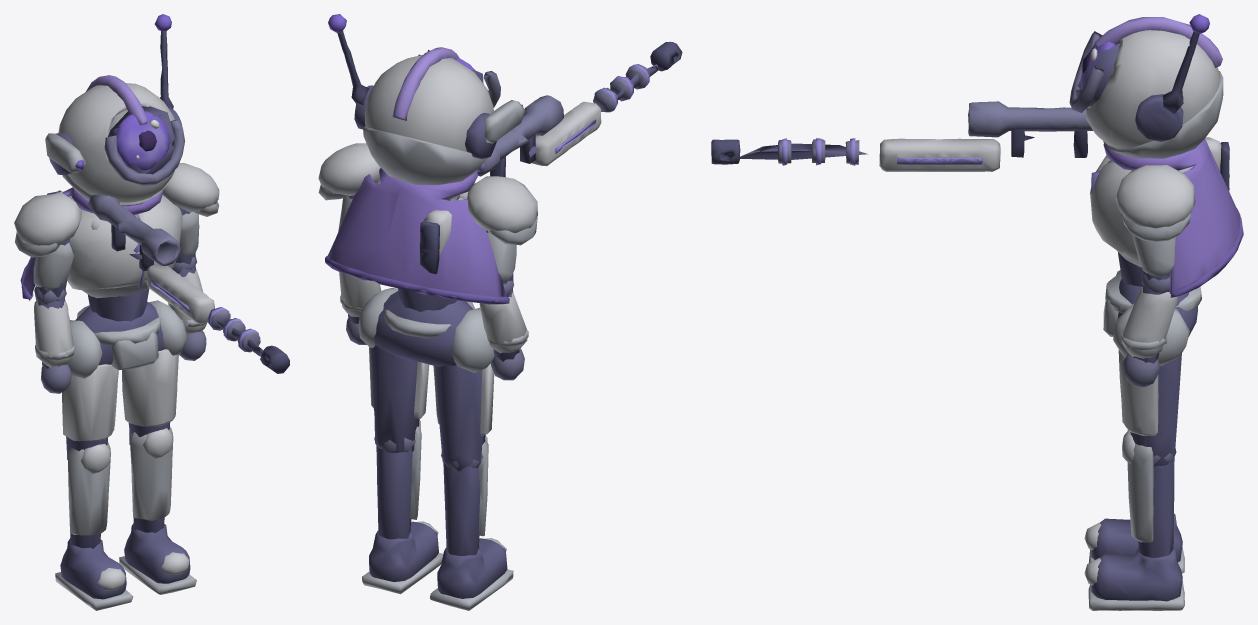
The model's file is sniper.glb.
3 views of the same model, side by side, from view 1: azimuth 30°, elevation 25°; view 2: azimuth 150°, elevation 25°; view 3: azimuth 270°, elevation 25° (orthographic). The views are drawn at different scales.
Visible parts, largest first — view 1: chest, head, shin_r, shin_l, gun, pelvis, leg_r, leg_l, fore_r, head_glow, arm_r, fore_l (+3 smaller); view 2: head, cape, gun, shin_l, shin_r, pelvis, chest, leg_r, leg_l, fore_r, fore_l, arm_r (+1 smaller); view 3: head, gun, shin_l, chest, cape, leg_l, fore_l, pelvis, shin_r, arm_l, gun_glow, head_glow.
Part boxes in pixels (x1=…): chest: x1=14, y1=163, x2=219, y2=321; head: x1=45, y1=30, x2=184, y2=206; shin_r: x1=55, y1=442, x2=133, y2=610; shin_l: x1=119, y1=427, x2=196, y2=594; gun: x1=47, y1=190, x2=289, y2=373; pelvis: x1=67, y1=300, x2=186, y2=378; leg_r: x1=62, y1=364, x2=118, y2=454; leg_l: x1=122, y1=349, x2=178, y2=437; fore_r: x1=34, y1=286, x2=74, y2=393; head_glow: x1=75, y1=14, x2=171, y2=170; arm_r: x1=33, y1=238, x2=73, y2=300; fore_l: x1=168, y1=257, x2=207, y2=360; head: x1=337, y1=31, x2=525, y2=184; cape: x1=325, y1=168, x2=509, y2=304; gun: x1=419, y1=41, x2=682, y2=274; shin_l: x1=362, y1=420, x2=443, y2=594; shin_r: x1=430, y1=436, x2=513, y2=610; pelvis: x1=358, y1=288, x2=494, y2=372; chest: x1=318, y1=143, x2=537, y2=311; leg_r: x1=433, y1=363, x2=494, y2=471; leg_l: x1=369, y1=345, x2=429, y2=452; fore_r: x1=479, y1=280, x2=528, y2=380; fore_l: x1=339, y1=272, x2=381, y2=344; arm_r: x1=486, y1=230, x2=516, y2=284; head: x1=1069, y1=17, x2=1223, y2=158; gun: x1=711, y1=101, x2=1229, y2=191; shin_l: x1=1084, y1=430, x2=1184, y2=610; chest: x1=1090, y1=155, x2=1195, y2=286; cape: x1=1103, y1=139, x2=1243, y2=297; leg_l: x1=1118, y1=350, x2=1181, y2=466; fore_l: x1=1121, y1=274, x2=1177, y2=387; pelvis: x1=1103, y1=270, x2=1201, y2=365; shin_r: x1=1084, y1=416, x2=1184, y2=573; arm_l: x1=1132, y1=235, x2=1175, y2=280; gun_glow: x1=782, y1=138, x2=982, y2=165; head_glow: x1=1080, y1=14, x2=1209, y2=89.
Bounding box in the file's own units: 0.5279 × 1.38 × 1.1.
